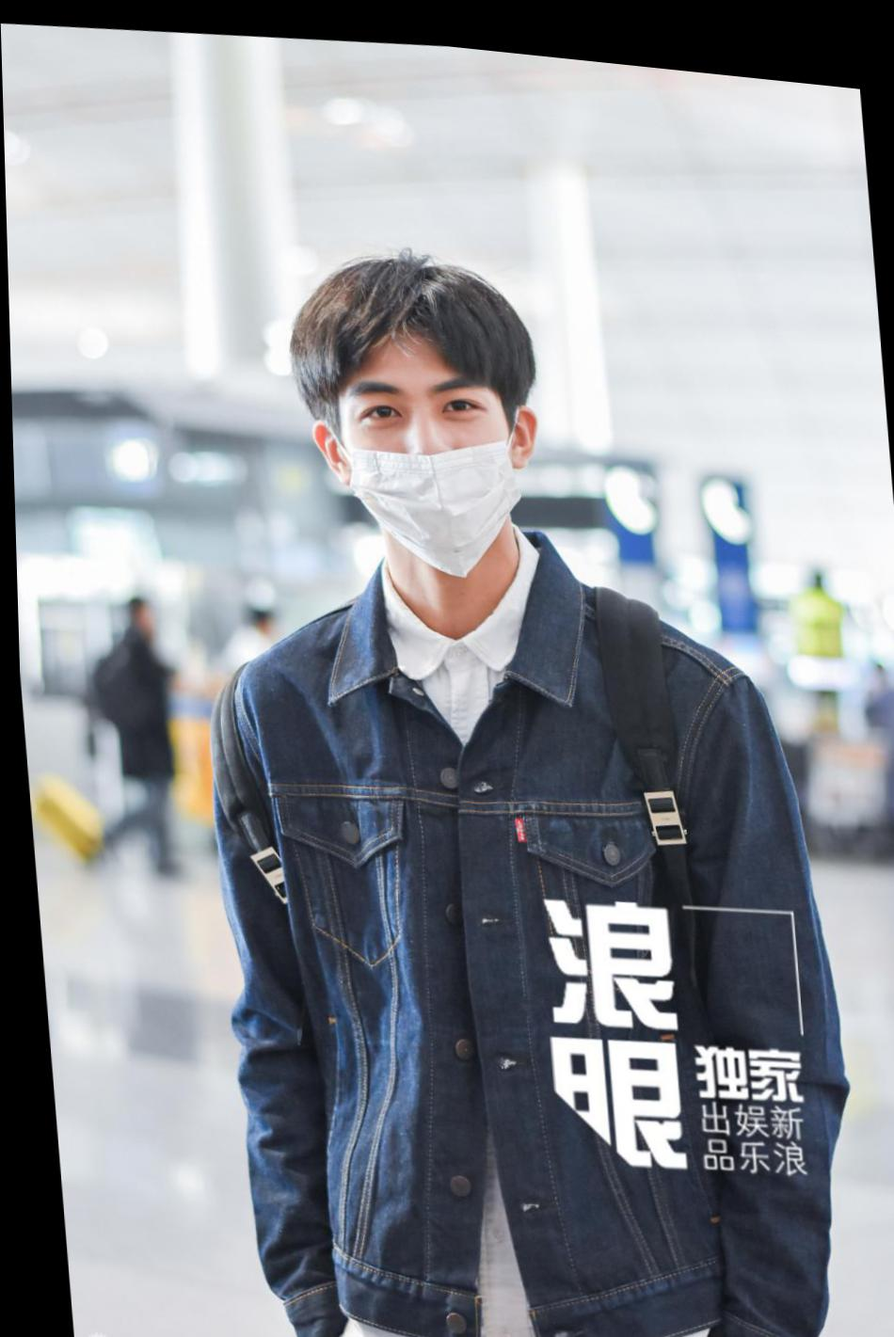WRONG: (330, 331, 518, 578)
